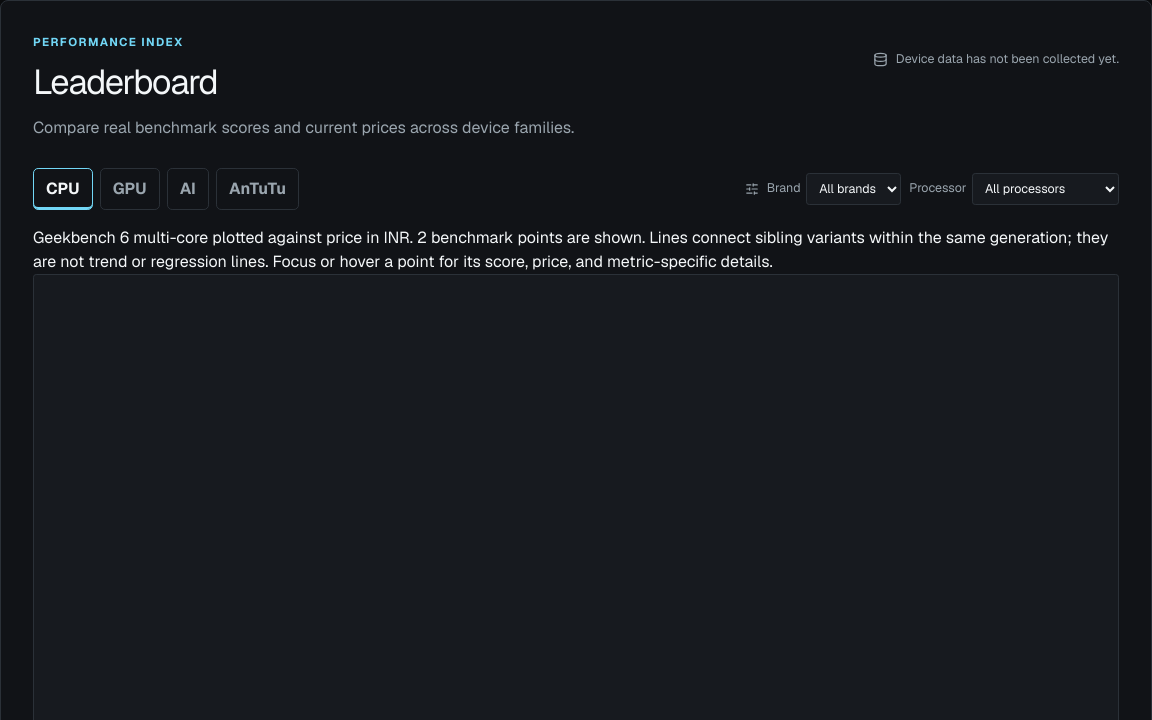
Scenario: LeaderboardStage › updates the graph when a metric is selected
Click the button "AI" at [188, 189], box [167,168,209,210]
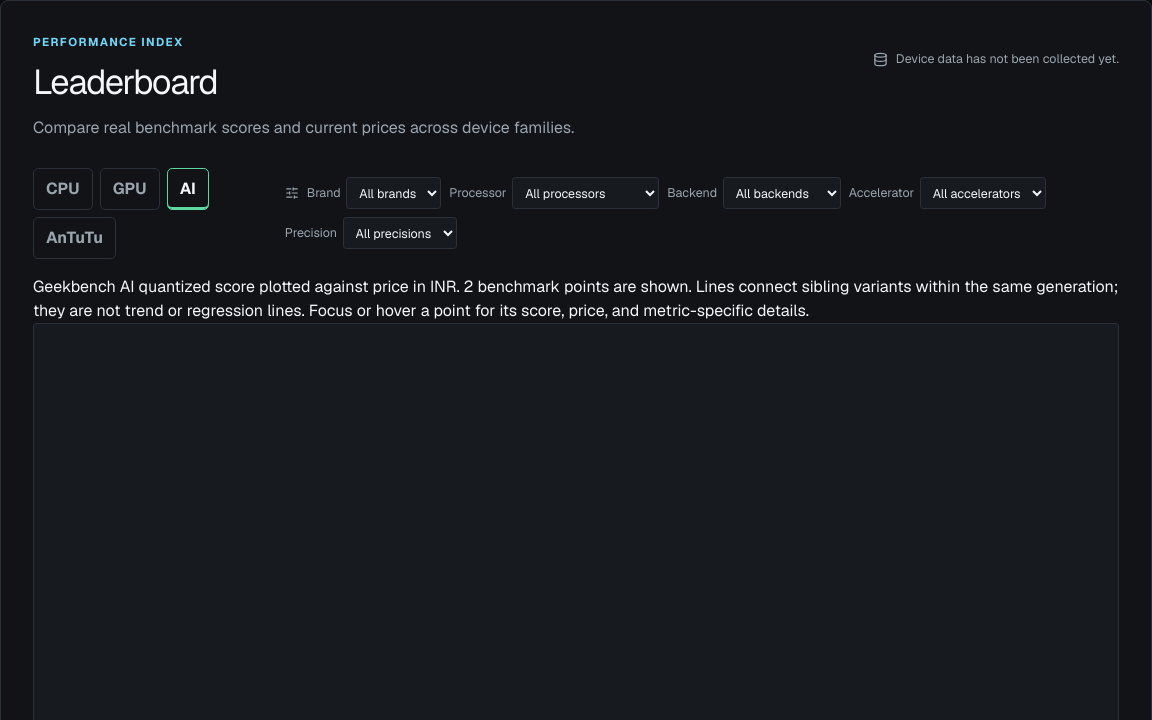
Check: the dropdown labelled "Backend" is shown, box [723,177,841,209]
